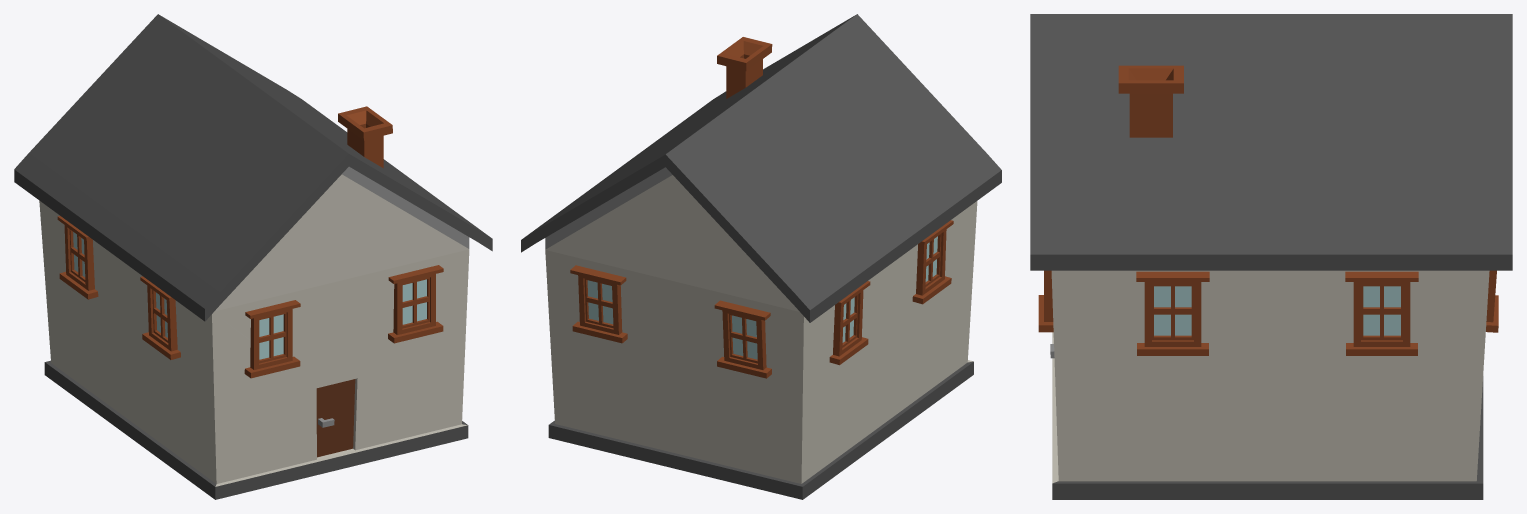
The model's file is house-2.glb.
3 views of the same model, side by side, from view 1: azimuth 30°, elevation 25°; view 2: azimuth 150°, elevation 25°; view 3: azimuth 270°, elevation 25° (orthographic). The views are drawn at different scales.
Size of the model in its own units: 1.25 by 1.34 by 1.44.
